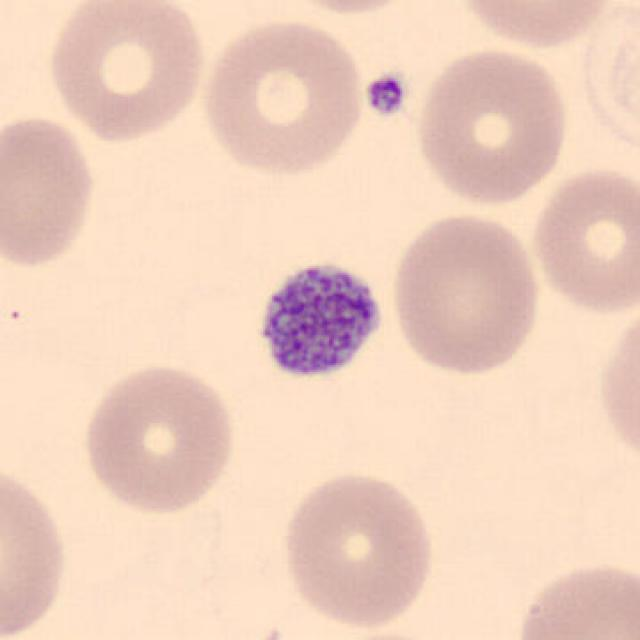Platelets: (242, 250, 391, 397), (361, 69, 411, 120)
RBC: (196, 14, 368, 180), (386, 208, 546, 379), (276, 466, 439, 631), (410, 42, 572, 208), (76, 358, 240, 518), (42, 0, 210, 145), (524, 162, 638, 318), (0, 110, 100, 274), (0, 456, 73, 640), (507, 555, 638, 640), (452, 0, 618, 51), (592, 296, 638, 478), (266, 0, 428, 16), (306, 626, 458, 640)
